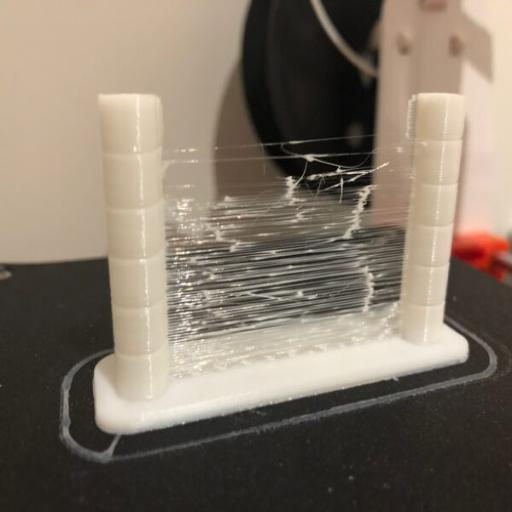stringing: (168, 128, 418, 377)
